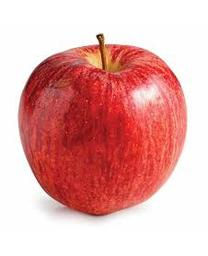apple: (17, 34, 187, 215)
